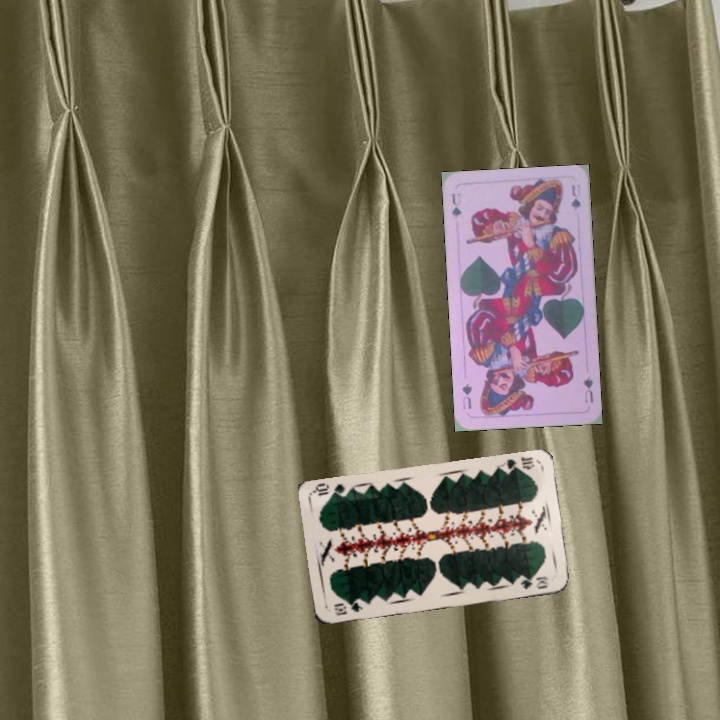G10: (498, 453, 536, 475), (330, 598, 365, 618)
GU: (579, 373, 596, 405), (448, 189, 464, 221)
